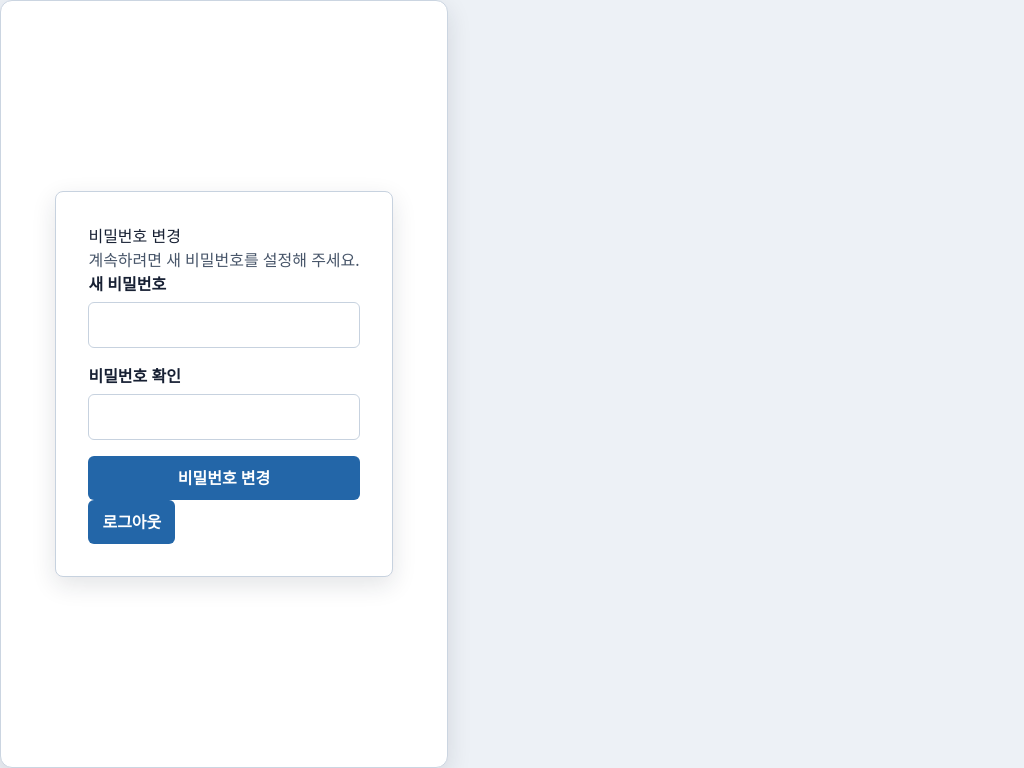
Test: authentication-based application routing › routes a first login to password change and then main
This screenshot has width=1024, height=768.
Expected: the heading "비밀번호 변경" is shown, [88,225,181,247]
Type "Changed!1234" into the password field with id "new-password" at (224,325), box [88,302,359,348]
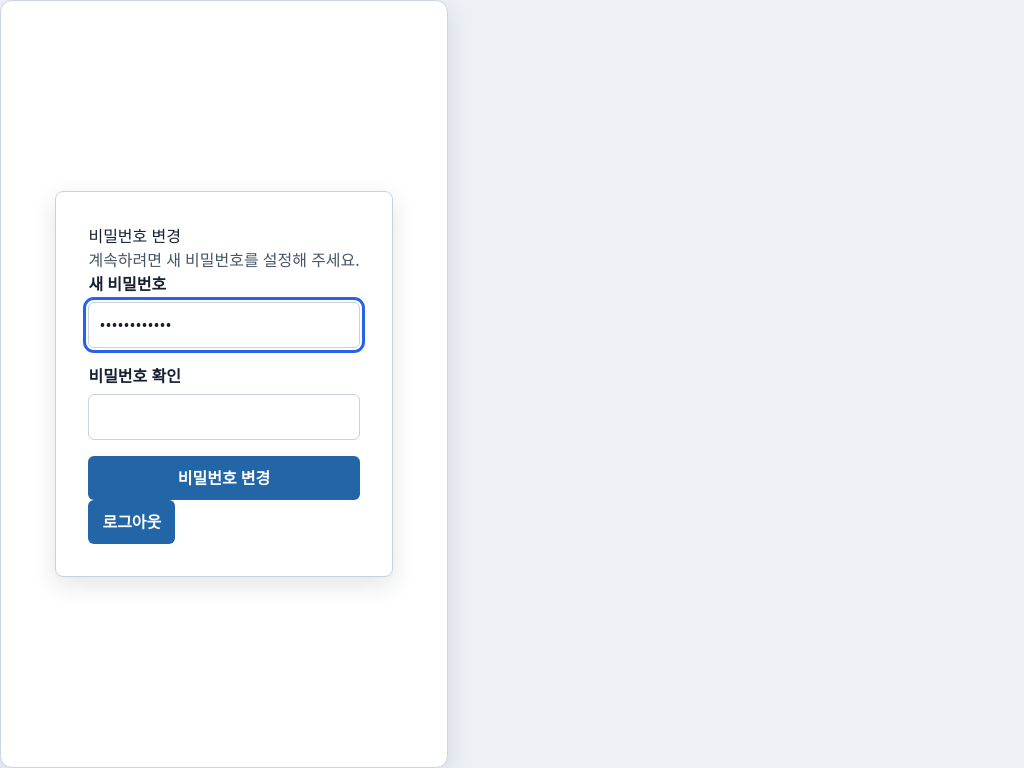
Type "Changed!1234" into the password field labelled "비밀번호 확인" at (224,417), box [88,394,359,440]
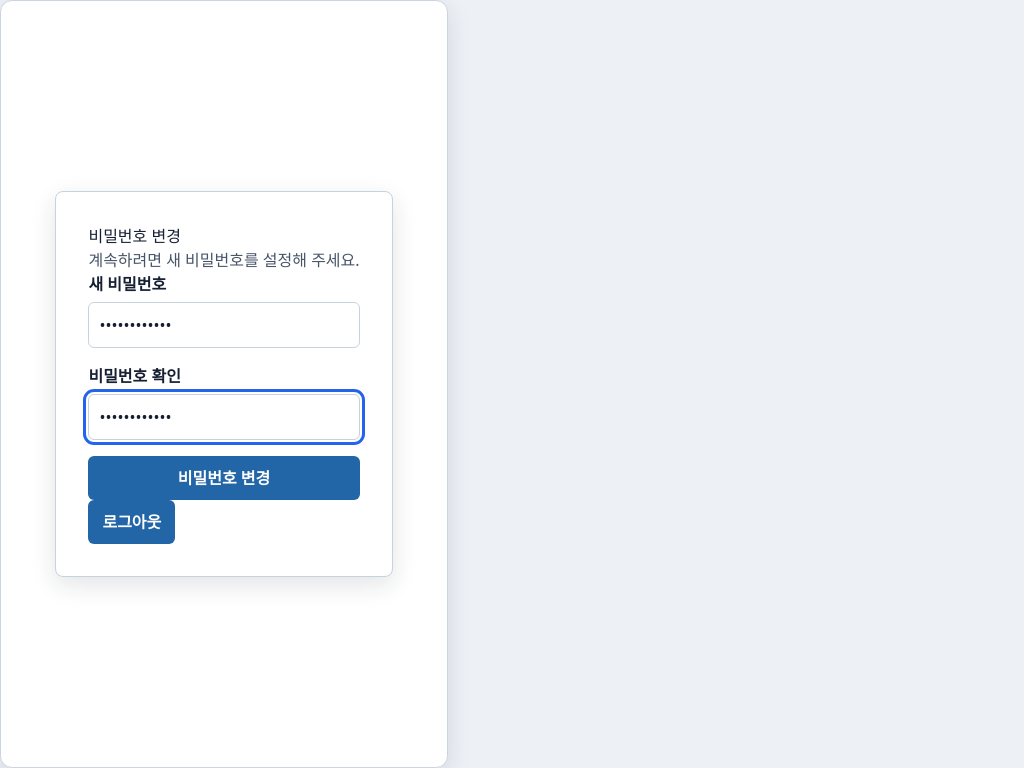
Click the button "비밀번호 변경" at (224,478), box [88,456,359,500]
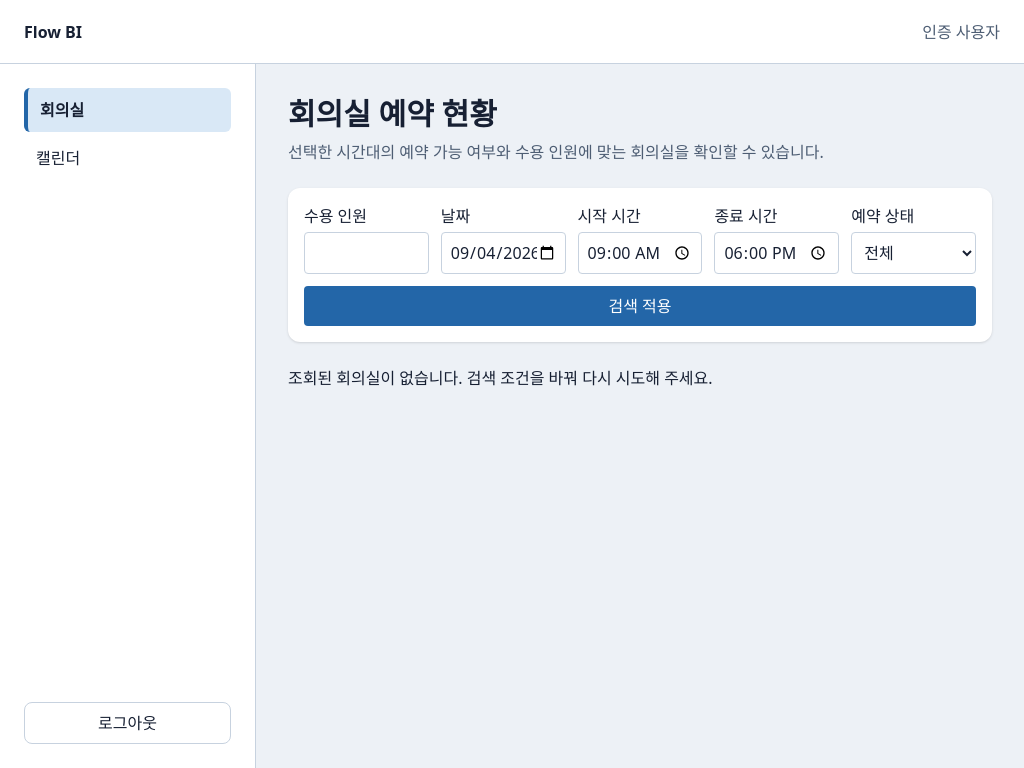
Expected: the heading "회의실 예약 현황" is shown, [288,93,497,134]
